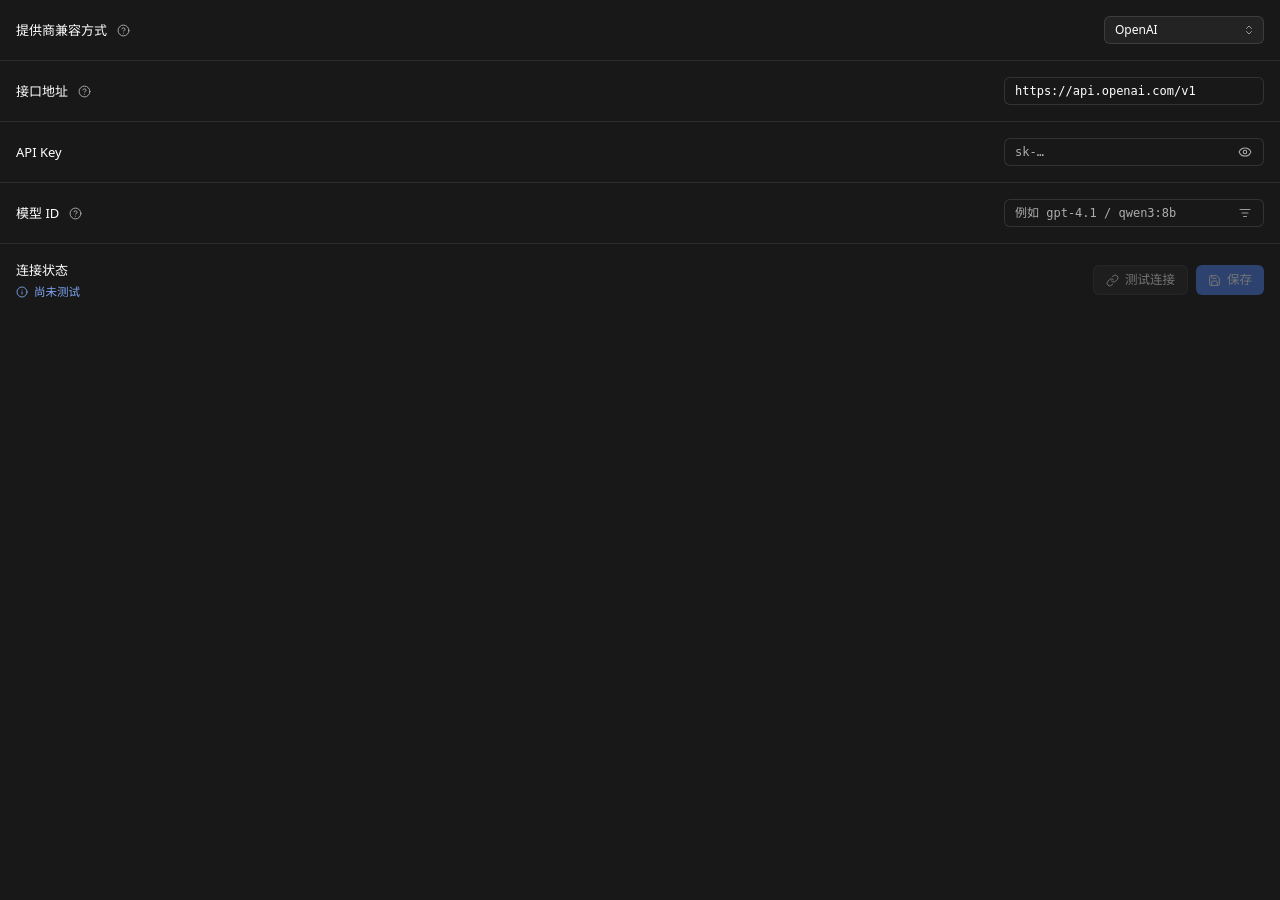
ModelForm 模型 ID suggestions › shows the kit empty state when the endpoint returns no models
Click the button named "从接口拉取模型列表". click: (1245, 213)
box: [1235,203,1255,223]
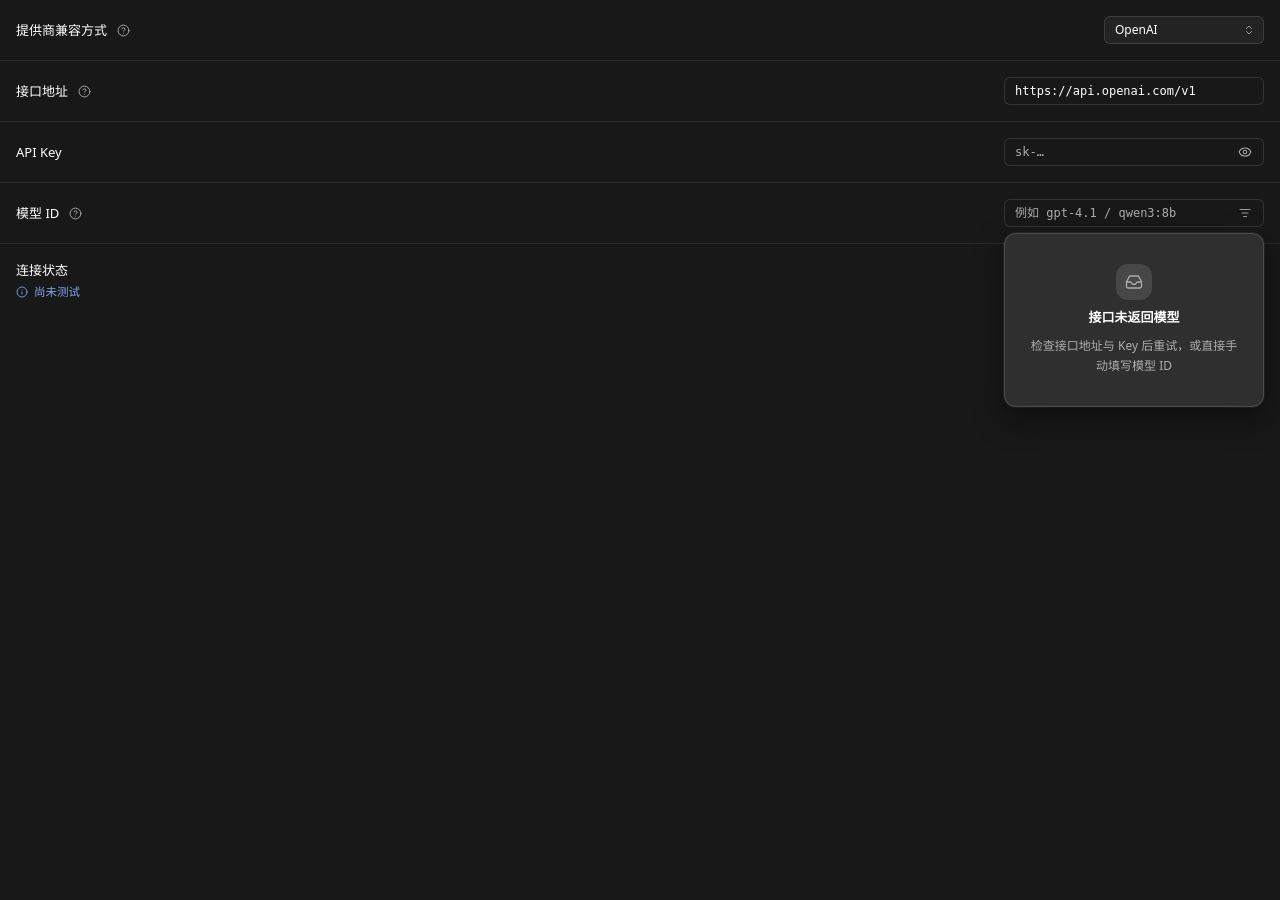
Check: the text "接口未返回模型" is shown, box [1088,308,1180,328]
